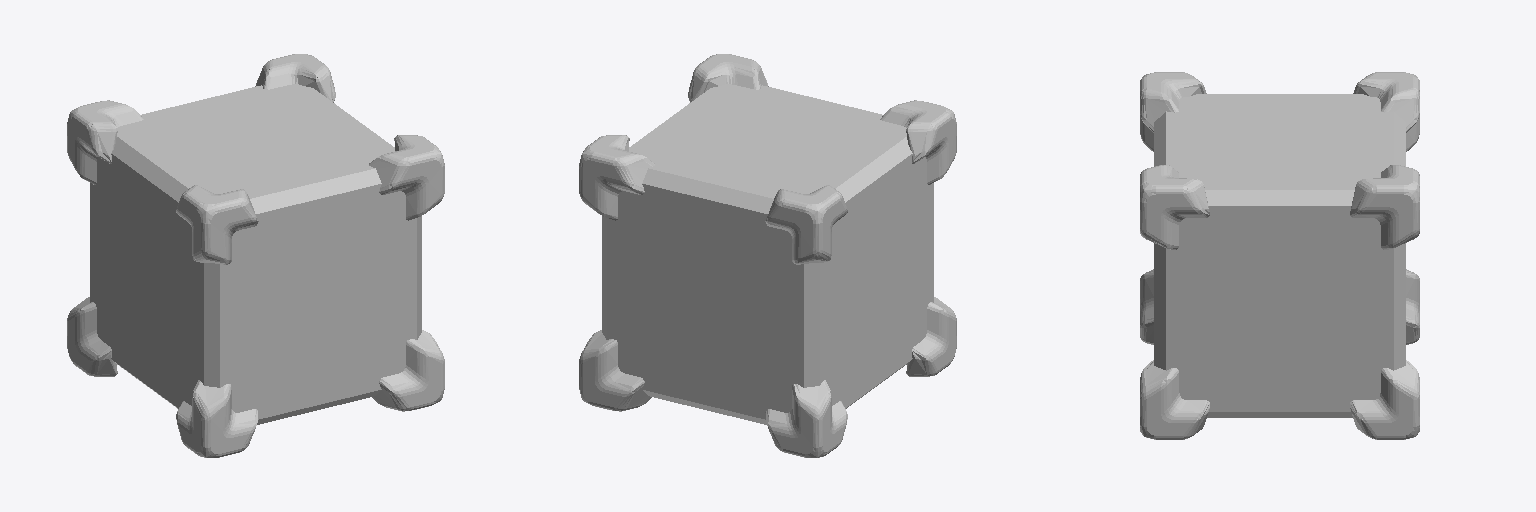
The picture shows the model from 3 angles: view 1: azimuth 30°, elevation 25°; view 2: azimuth 150°, elevation 25°; view 3: azimuth 270°, elevation 25°; orthographic projection.
Visible parts, largest first — view 1: Cube, Handles; view 2: Cube, Handles; view 3: Cube, Handles.
Boxes of the visible parts, box(x1,y1,x2,y2) form: Cube: box(90, 84, 421, 424); Handles: box(67, 54, 444, 457); Cube: box(602, 84, 933, 424); Handles: box(579, 54, 956, 457); Cube: box(1154, 94, 1405, 417); Handles: box(1140, 72, 1419, 439).
Size of the model in its own units: 1.11 by 1.11 by 1.12.